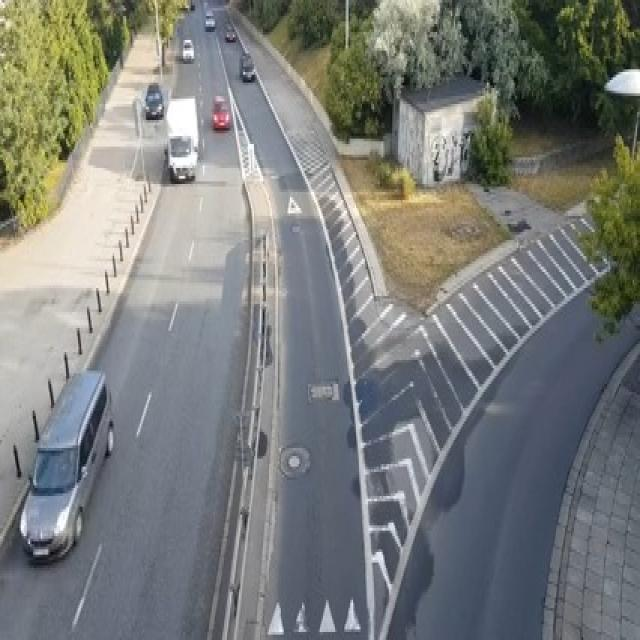bus: (18, 365, 114, 563)
car: (210, 93, 230, 128), (144, 83, 164, 117), (239, 51, 255, 80), (182, 38, 194, 62), (204, 8, 215, 29), (224, 24, 236, 40), (190, 0, 196, 8)
truck: (162, 96, 198, 181)
